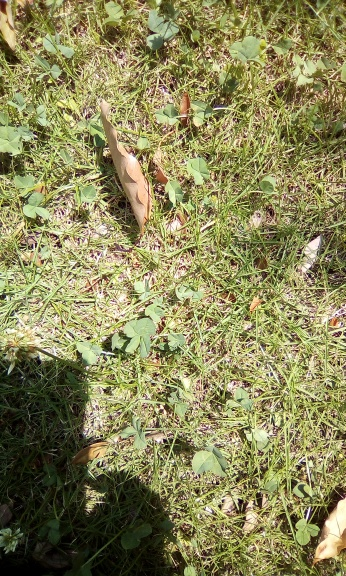4leaf: (122, 318, 156, 358), (185, 157, 211, 185)
